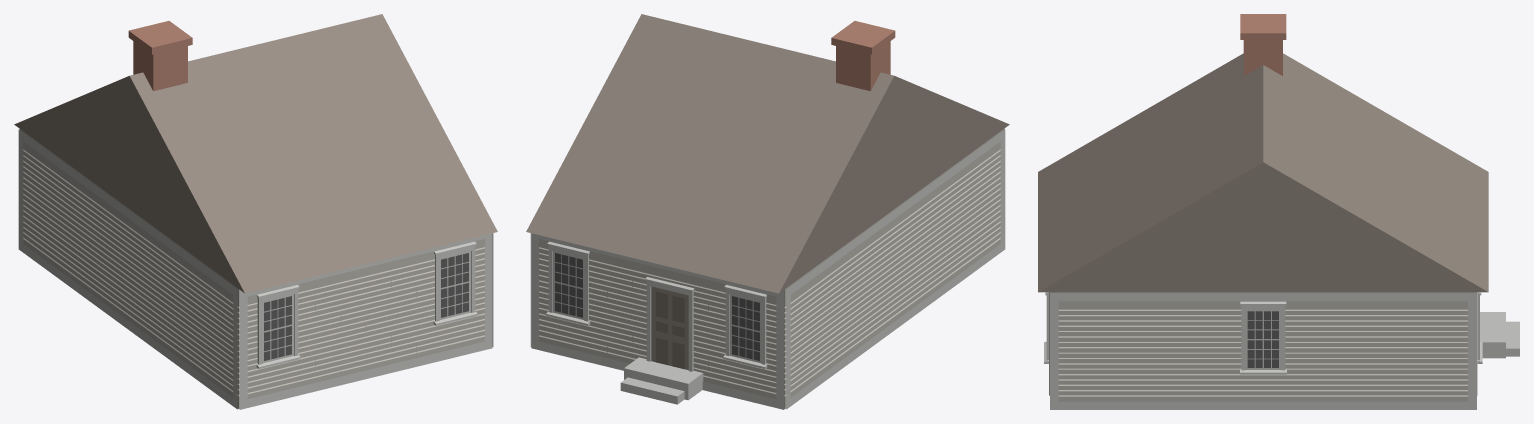
File: recon_1835_west_004__inferred_1835.glb
3 renders of one model, left to right at view 1: azimuth 30°, elevation 25°; view 2: azimuth 150°, elevation 25°; view 3: azimuth 270°, elevation 25°, orthographic. The views are drawn at different scales.
Visible parts, largest first — view 1: recon_1835_west_004__inferred_1835; view 2: recon_1835_west_004__inferred_1835; view 3: recon_1835_west_004__inferred_1835.
Part boxes in pixels (left/top/right/bottom): recon_1835_west_004__inferred_1835: left=14, top=14, right=497, bottom=409; recon_1835_west_004__inferred_1835: left=526, top=14, right=1009, bottom=409; recon_1835_west_004__inferred_1835: left=1038, top=14, right=1519, bottom=409.
Bounding box in the file's own units: 6.25 × 6.62 × 10.31.
